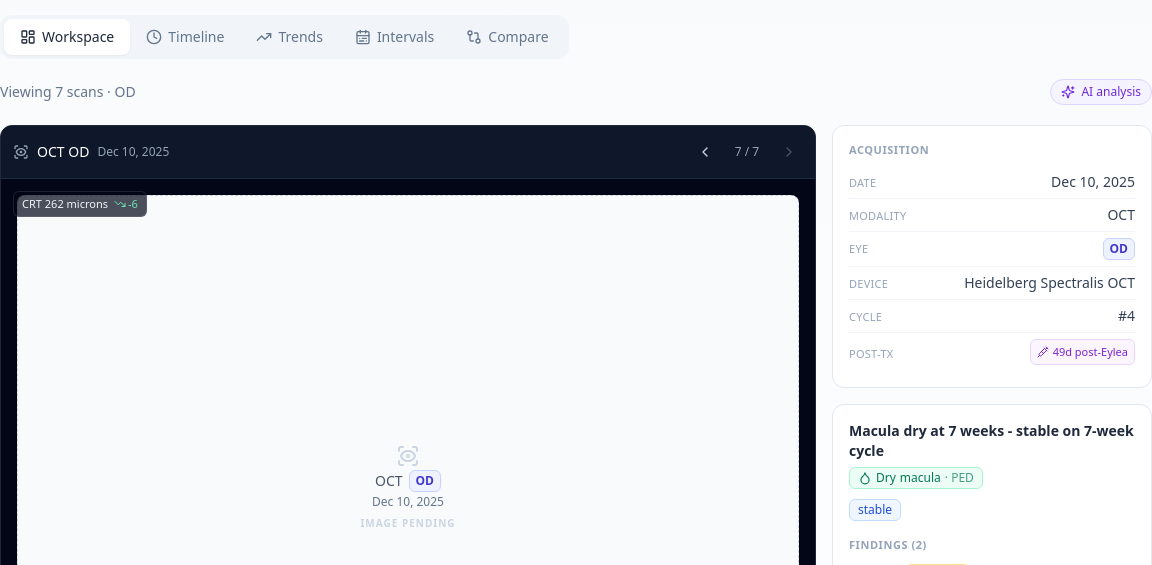
Test case: Imaging intervals › renders the interval table, pattern summary, and recommendation callout
Click the tab "Intervals" at x=395, y=36, box [339, 18, 450, 54]
(page scrolled)
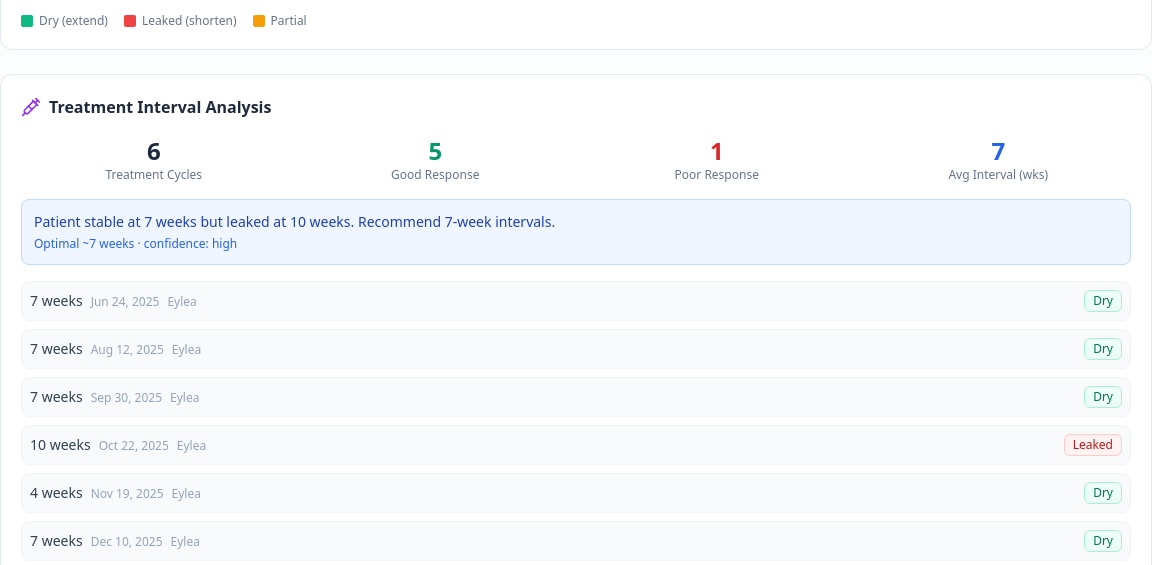
Expected: the heading "Treatment Interval Analysis" is shown, [21, 96, 272, 118]
Expected: the text "7 weeks" is shown 4 times, [30, 290, 83, 310]; [30, 338, 83, 358]; [30, 386, 83, 406]; [30, 530, 83, 550]
Expected: the text "Recommend 7-week intervals" is shown, [34, 212, 555, 230]
